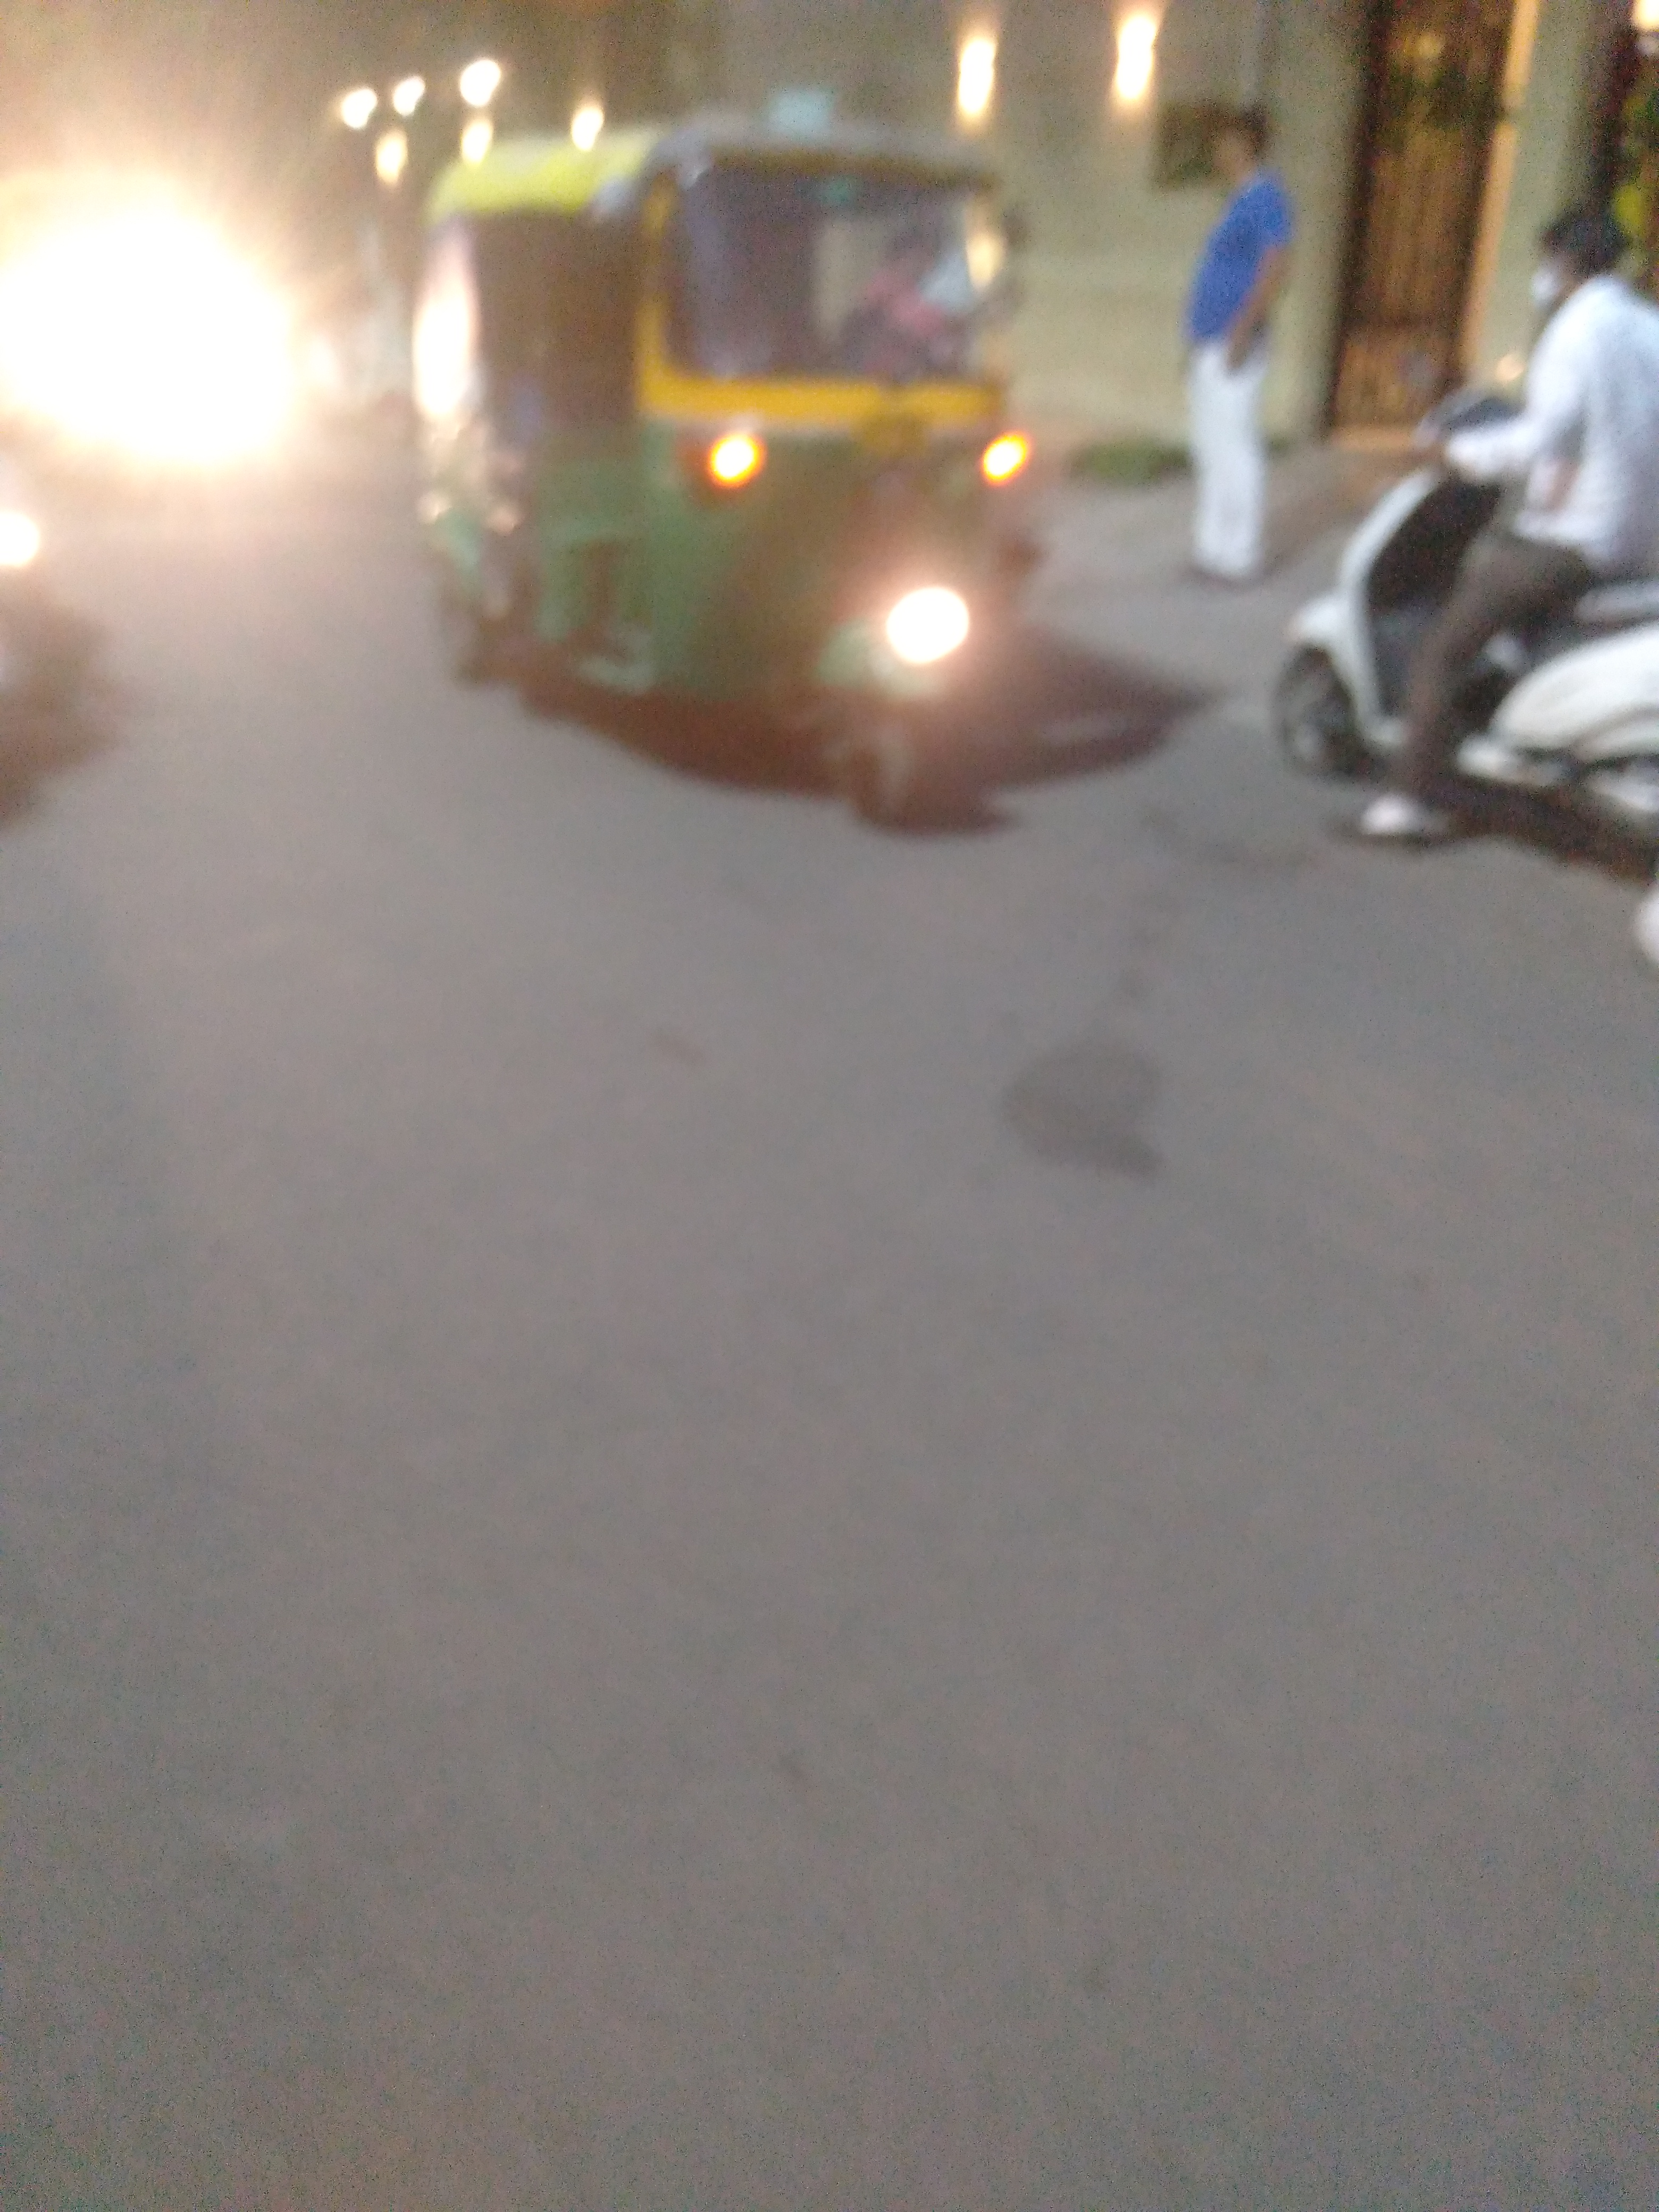auto: (413, 118, 1028, 815)
two_wheelers: (1274, 265, 1659, 857)
